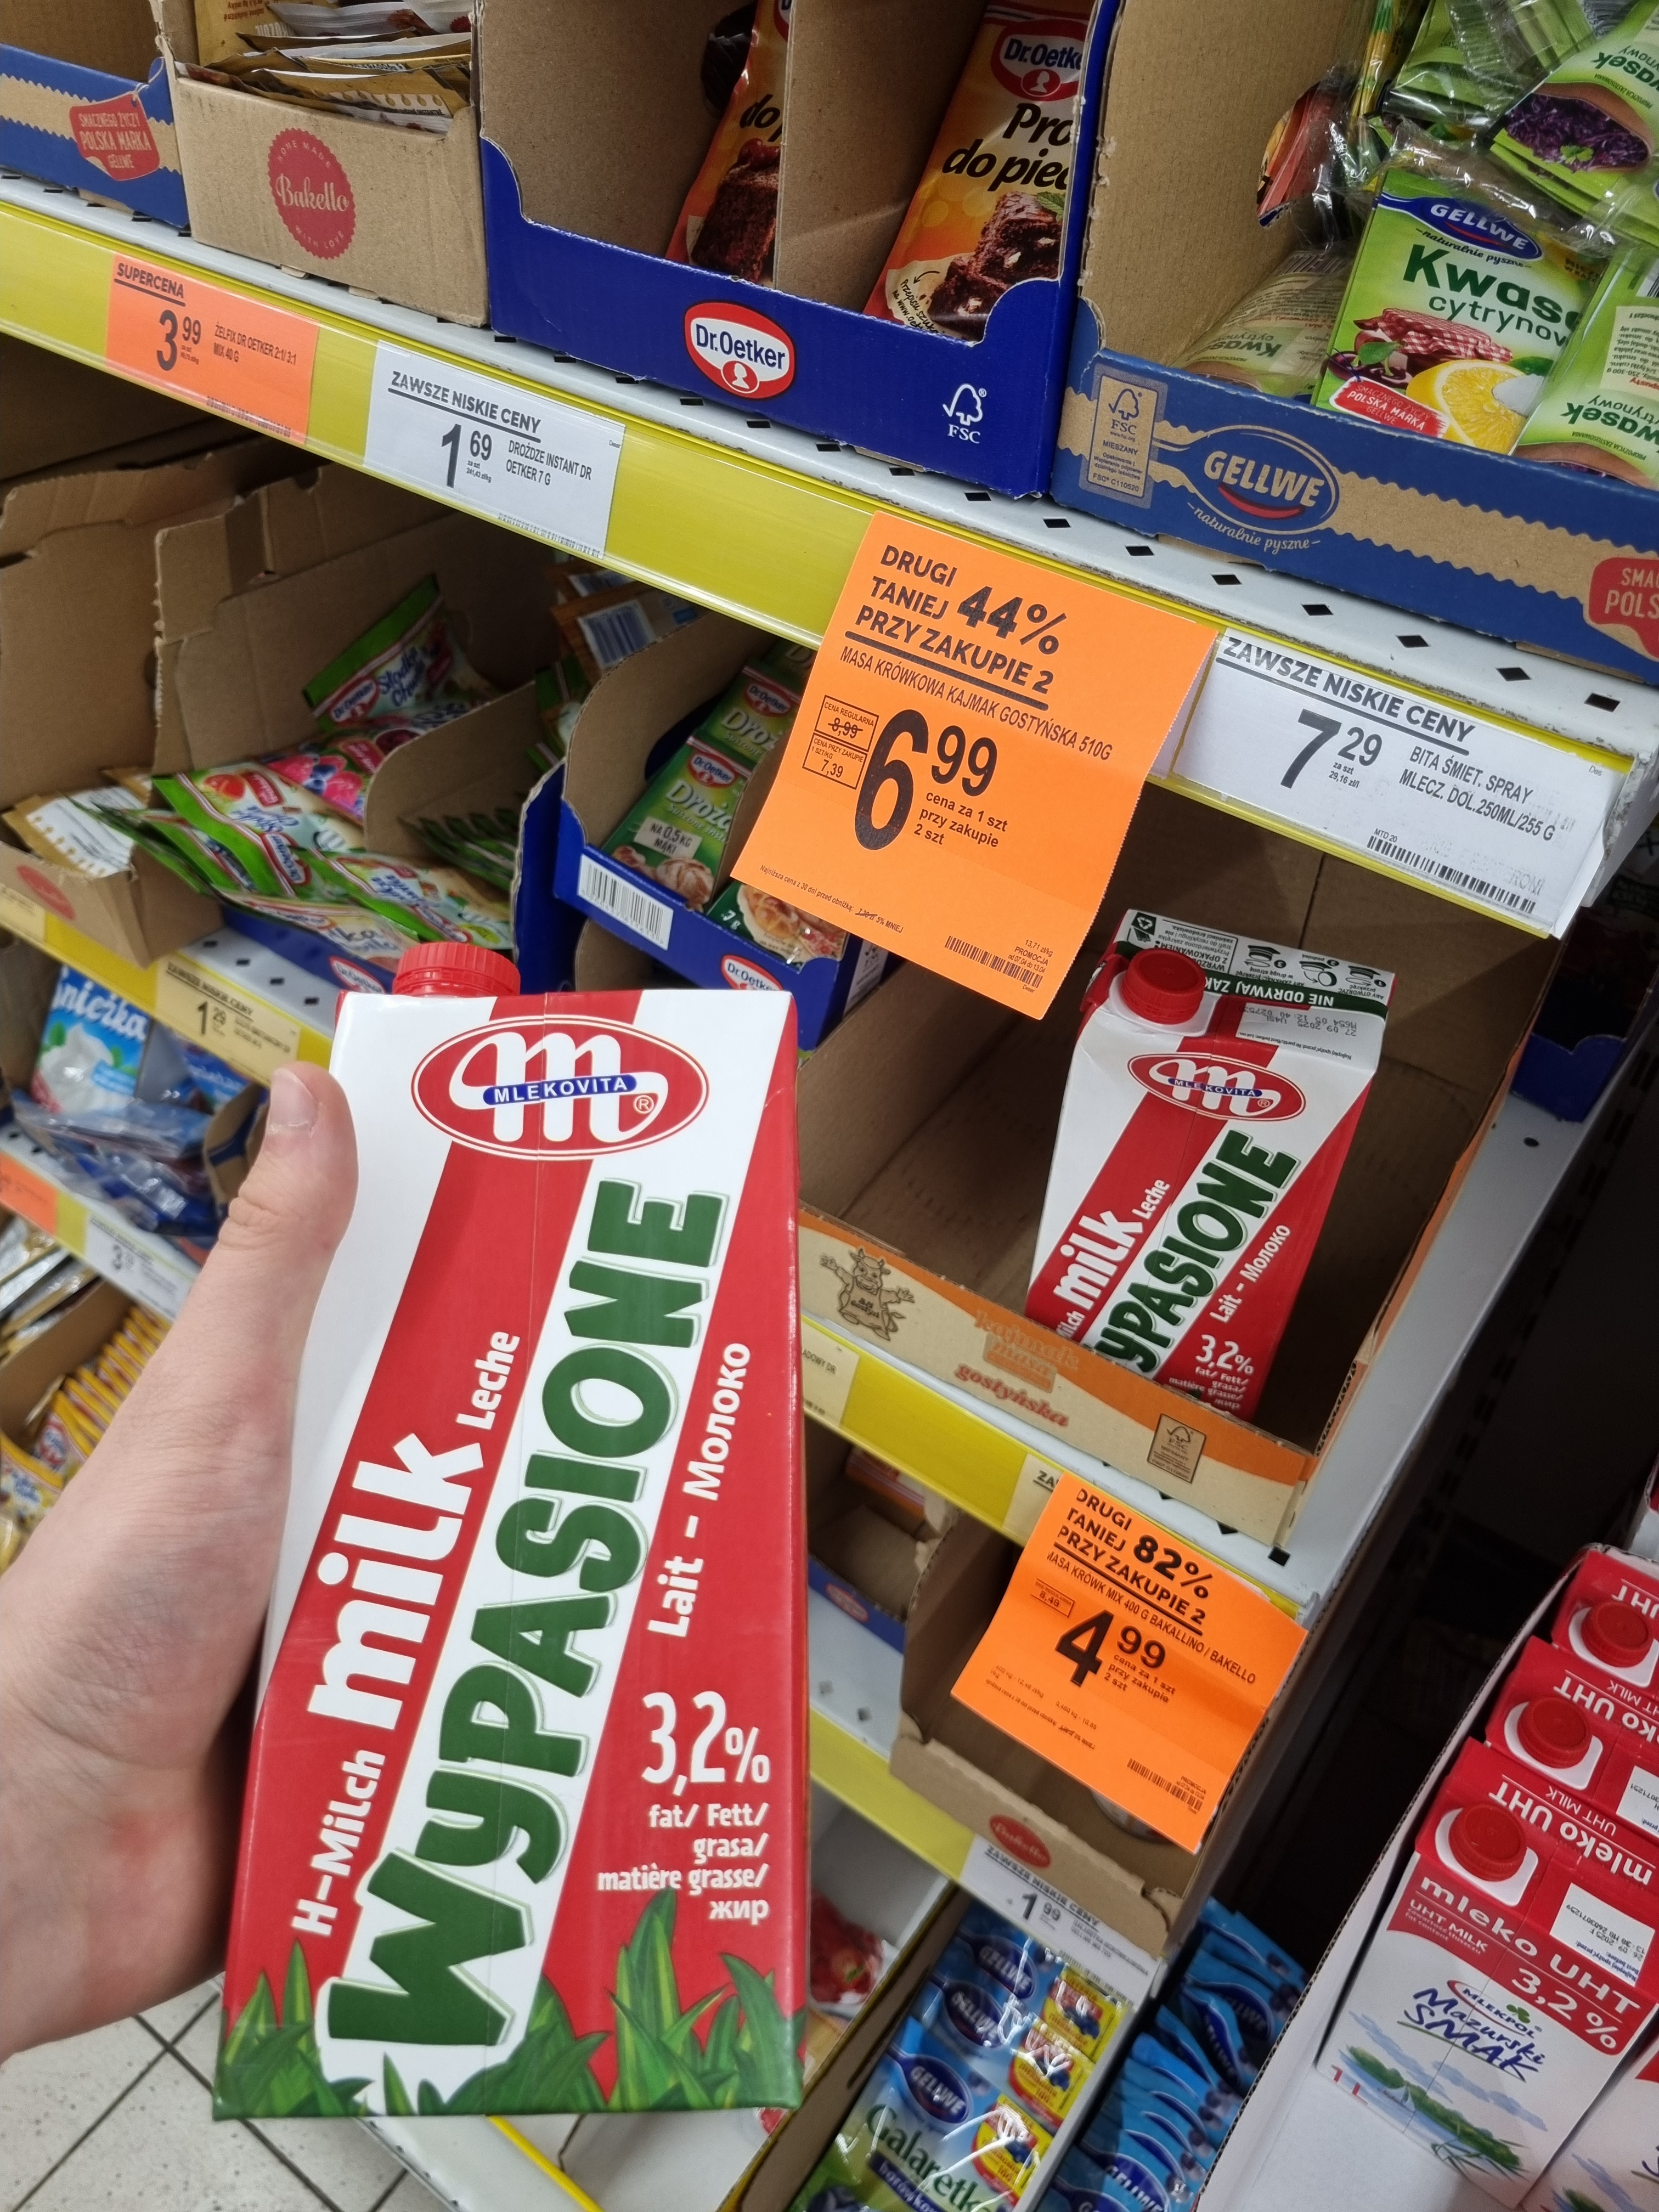Milk: (221, 953, 814, 2123), (1032, 916, 1387, 1439)
